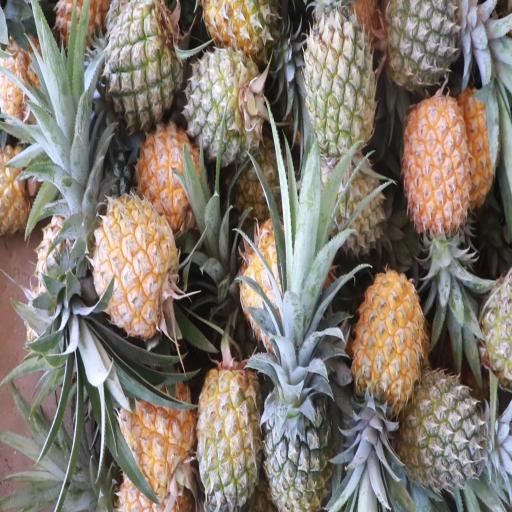Pineapple - v8 v1: (90, 185, 181, 341), (350, 267, 424, 418), (400, 88, 472, 241), (195, 369, 266, 510), (133, 121, 209, 241), (196, 0, 282, 64)
